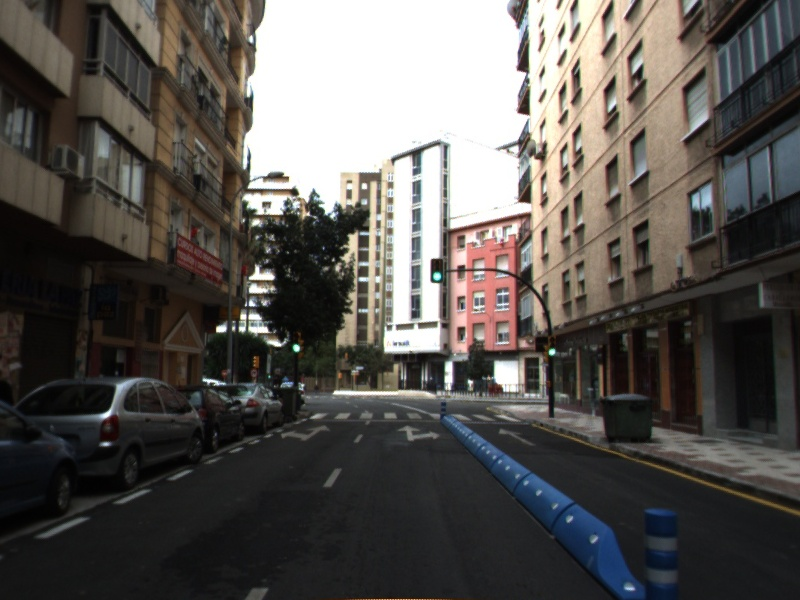STRAIGHT: (496, 426, 539, 448)
STRAIGHT_LEFT: (278, 422, 334, 443)
STRAIGHT_RIGHT: (395, 423, 444, 444)
